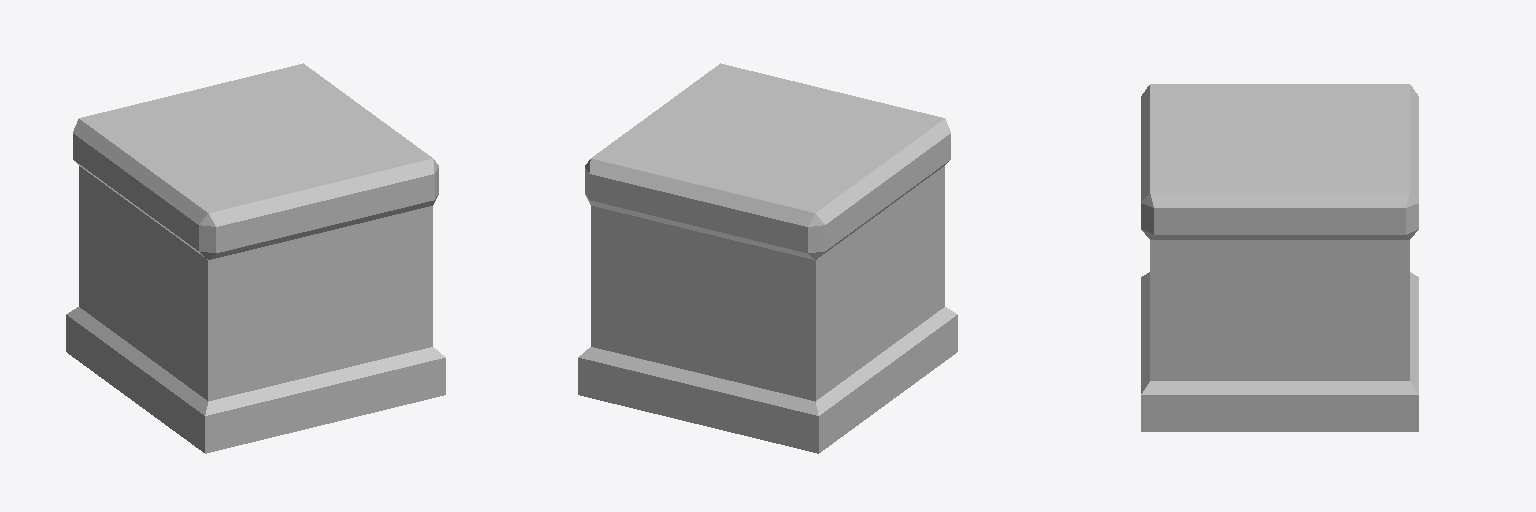
The model's file is Building_Solo.obj.
3 views of the same model, side by side, from view 1: azimuth 30°, elevation 25°; view 2: azimuth 150°, elevation 25°; view 3: azimuth 270°, elevation 25° (orthographic).
Visible parts, largest first — view 1: Building_Solo; view 2: Building_Solo; view 3: Building_Solo.
Boxes of the visible parts, x1,y1,x2,y2 form: Building_Solo: [66, 63, 445, 453]; Building_Solo: [578, 63, 957, 453]; Building_Solo: [1141, 84, 1418, 431].
Bounding box in the file's own units: 1.07 × 1 × 1.07.